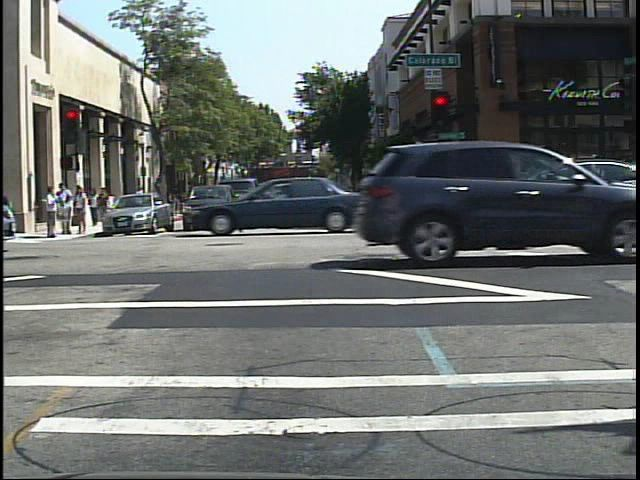person: (166, 182, 183, 219), (88, 187, 103, 228), (133, 183, 149, 219)
